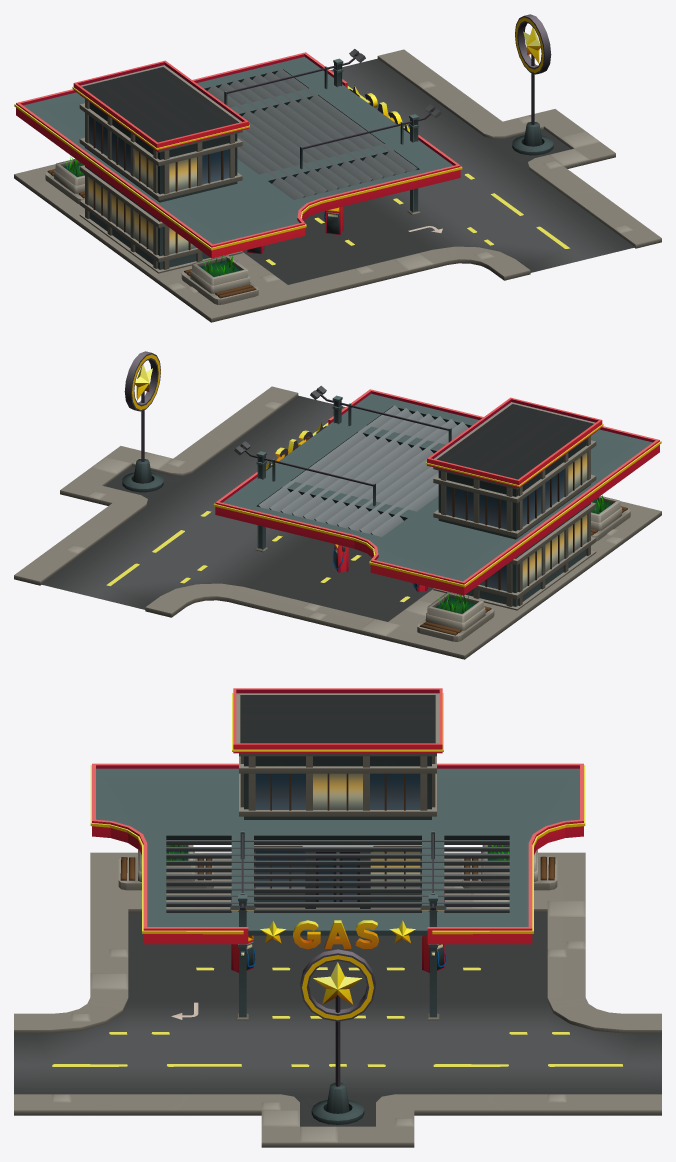
File: Gas_Station_2A.fbx
3 views of the same model, one above another, from view 1: azimuth 30°, elevation 25°; view 2: azimuth 150°, elevation 25°; view 3: azimuth 270°, elevation 25° (orthographic). The views are drawn at different scales.
Parts seen in each view (by area): view 1: Gas_Station_2A, Gas_Station_2A_D_Addon, Gas_Station_2A_Window_Lights, Gas_Station_2A_Rotating_Logo; view 2: Gas_Station_2A, Gas_Station_2A_D_Addon, Gas_Station_2A_Window_Lights, Gas_Station_2A_Rotating_Logo; view 3: Gas_Station_2A, Gas_Station_2A_D_Addon, Gas_Station_2A_Window_Lights, Gas_Station_2A_Rotating_Logo.
Part boxes in pixels (<box>): Gas_Station_2A: <box>14,27,553,322</box>; Gas_Station_2A_D_Addon: <box>45,49,661,304</box>; Gas_Station_2A_Window_Lights: <box>88,149,196,254</box>; Gas_Station_2A_Rotating_Logo: <box>515,14,551,74</box>; Gas_Station_2A: <box>122,364,661,659</box>; Gas_Station_2A_D_Addon: <box>14,386,630,641</box>; Gas_Station_2A_Window_Lights: <box>522,452,587,588</box>; Gas_Station_2A_Rotating_Logo: <box>124,351,160,411</box>; Gas_Station_2A: <box>14,688,661,1124</box>; Gas_Station_2A_D_Addon: <box>14,845,661,1147</box>; Gas_Station_2A_Window_Lights: <box>313,773,420,887</box>; Gas_Station_2A_Rotating_Logo: <box>300,949,375,1021</box>.
Size of the model in its own units: 3600 by 1042 by 3400.
